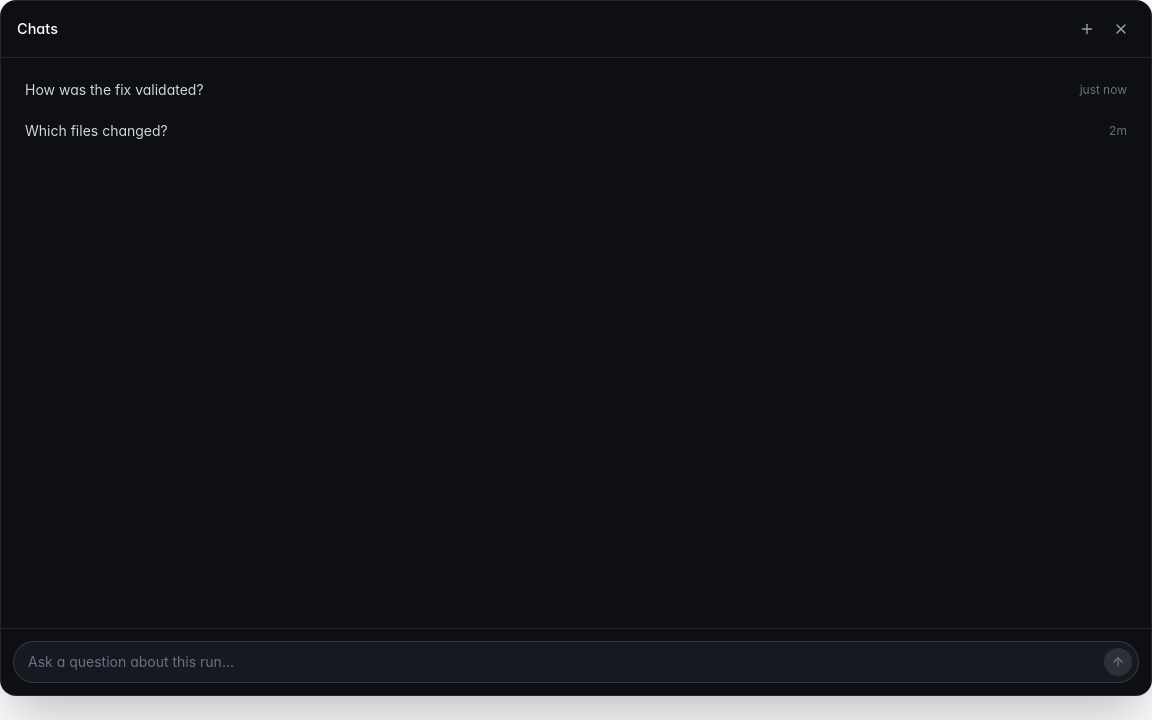
Test: ChatHistoryDrawer › returns to conversation list view when back arrow is clicked
Click the text "How was the fix validated?": coordinates (114, 90) x1=25 y1=81 x2=204 y2=98
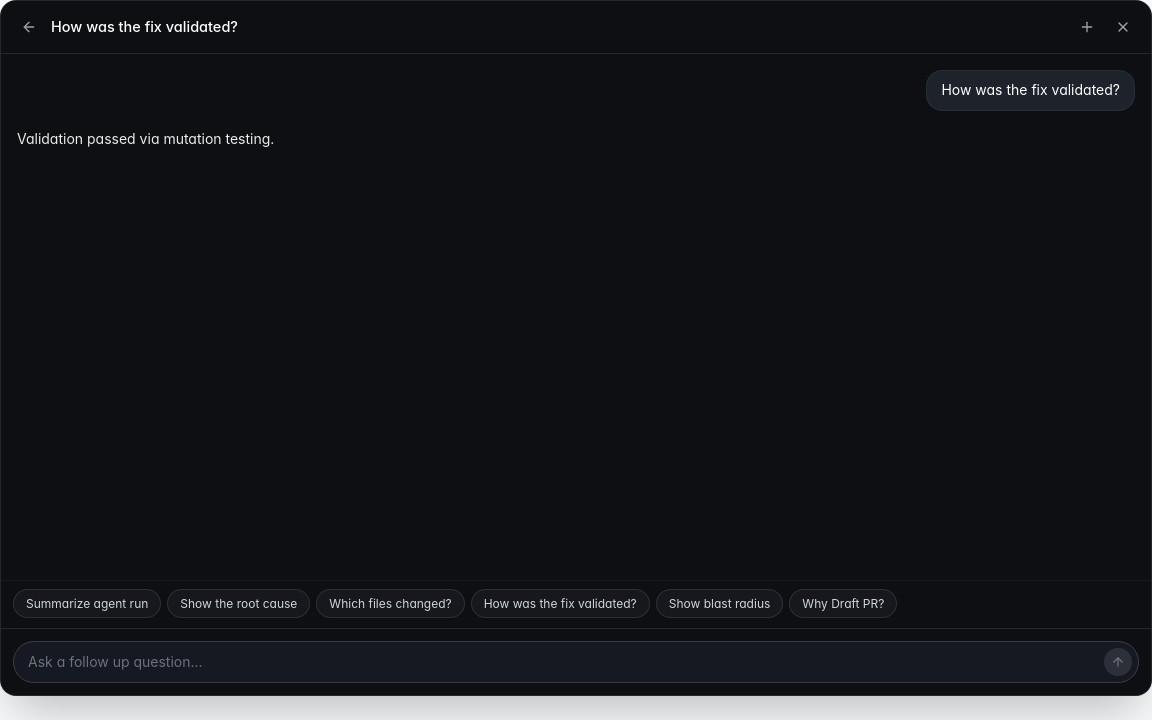
Now the text "Validation passed via mutation testing." is shown, box x1=17 y1=130 x2=274 y2=147
Click the button named "Back to conversation list": coordinates (29, 27) x1=15 y1=13 x2=43 y2=41
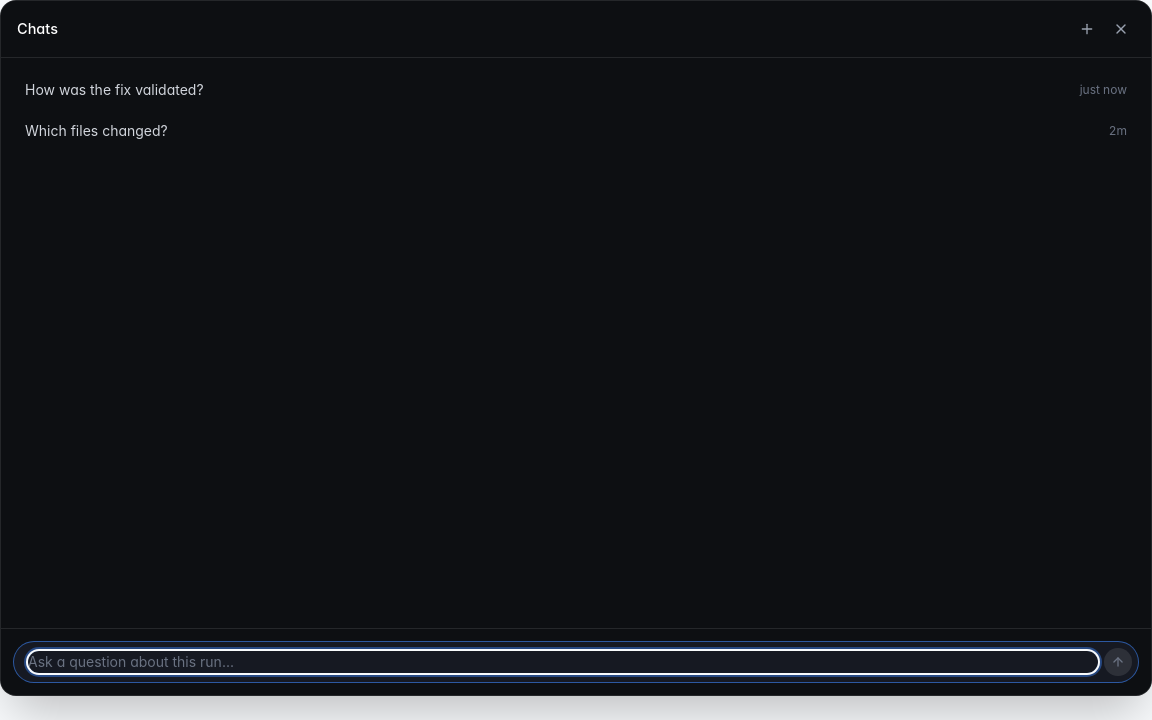
Now the text "Chats" is shown, box x1=17 y1=17 x2=58 y2=41
